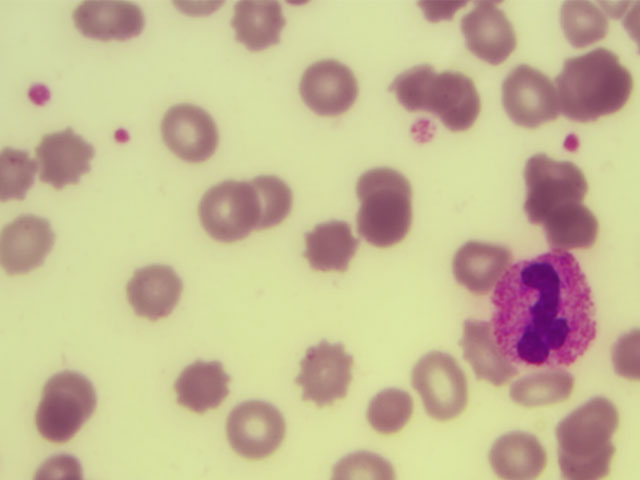Platlets: (29, 85, 51, 108), (413, 122, 436, 144), (560, 129, 580, 152), (112, 129, 129, 146)
RBC: (558, 49, 634, 123), (297, 338, 357, 407), (201, 180, 260, 246), (418, 351, 474, 420), (225, 401, 287, 463), (298, 56, 362, 116), (554, 395, 620, 453), (158, 104, 220, 165), (502, 66, 561, 129), (1, 213, 58, 277), (125, 265, 185, 321), (174, 359, 232, 416), (462, 8, 520, 65), (42, 130, 96, 190), (362, 194, 417, 252), (458, 238, 513, 293), (73, 1, 148, 41), (306, 220, 359, 273), (545, 206, 608, 249), (33, 393, 87, 443), (493, 430, 550, 476), (526, 153, 588, 194), (368, 385, 417, 432), (46, 369, 100, 410), (445, 68, 480, 131), (239, 5, 289, 49), (557, 443, 615, 480), (559, 5, 610, 47), (392, 66, 440, 109), (511, 375, 580, 404), (335, 446, 395, 479), (1, 148, 36, 203), (612, 322, 640, 388), (254, 178, 292, 225), (356, 167, 417, 196), (522, 192, 580, 222), (33, 454, 84, 479), (414, 1, 468, 23), (171, 2, 230, 17), (623, 3, 640, 42), (605, 2, 628, 20)
WBC: (487, 252, 599, 371)
